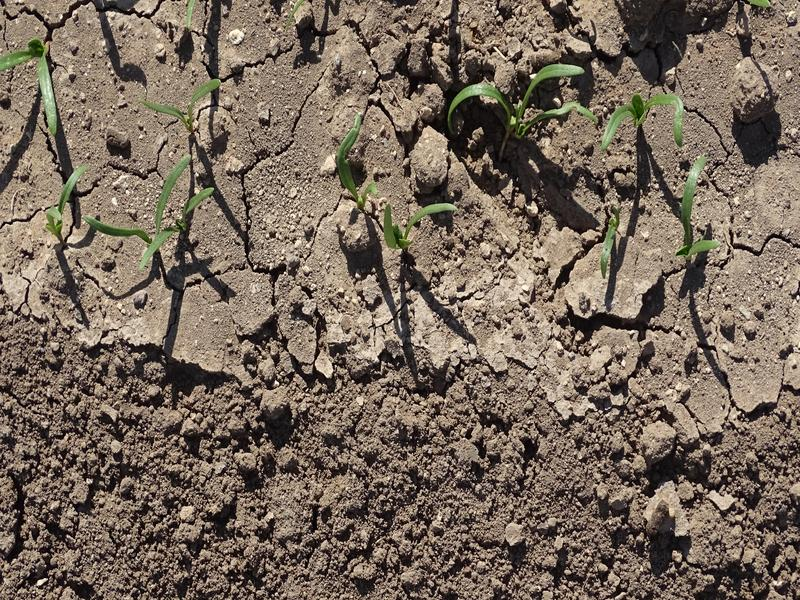Espinaca: (84, 152, 214, 263), (437, 60, 596, 144), (4, 39, 64, 141), (597, 92, 691, 150), (378, 198, 461, 247), (680, 152, 716, 260), (43, 154, 93, 228), (143, 80, 224, 125), (336, 108, 370, 198), (592, 211, 622, 275)
